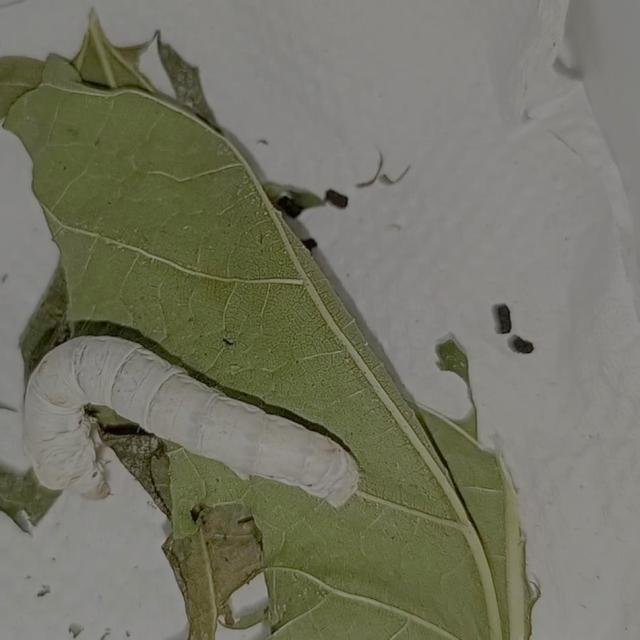Healthy: (15, 330, 366, 520)
